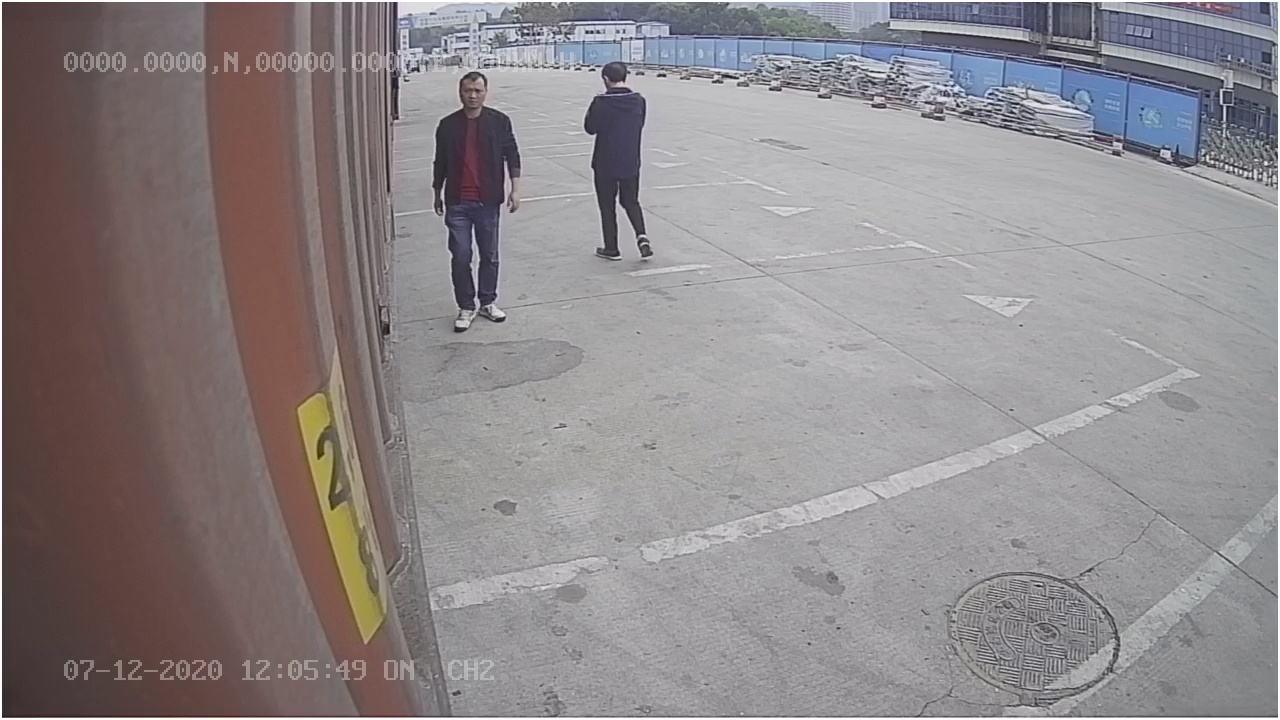person: (428, 70, 525, 331)
